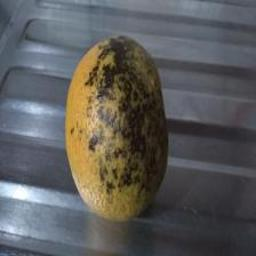Orange Semirotten: (52, 37, 178, 234)
